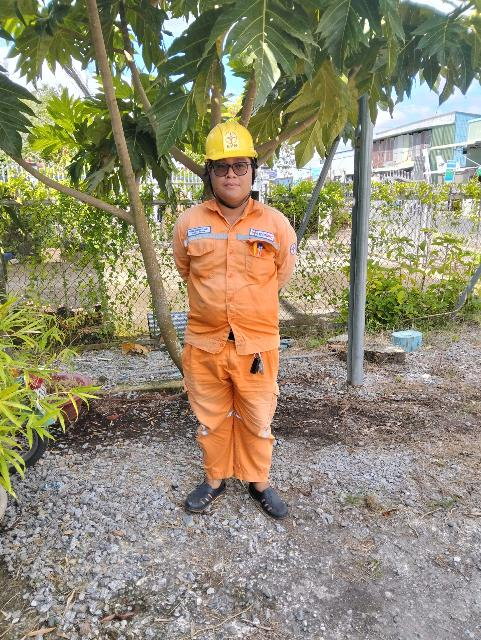helmet: (194, 122, 271, 174)
shoes: (163, 466, 229, 525), (244, 481, 309, 532)
